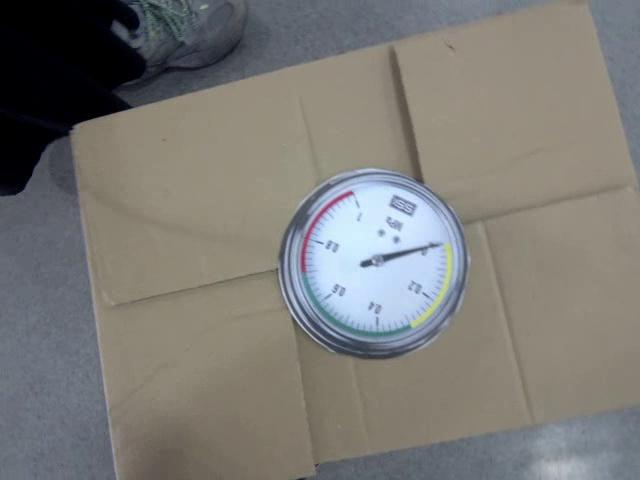Dashboard: (276, 170, 470, 360)
ssi: (387, 192, 418, 217)
